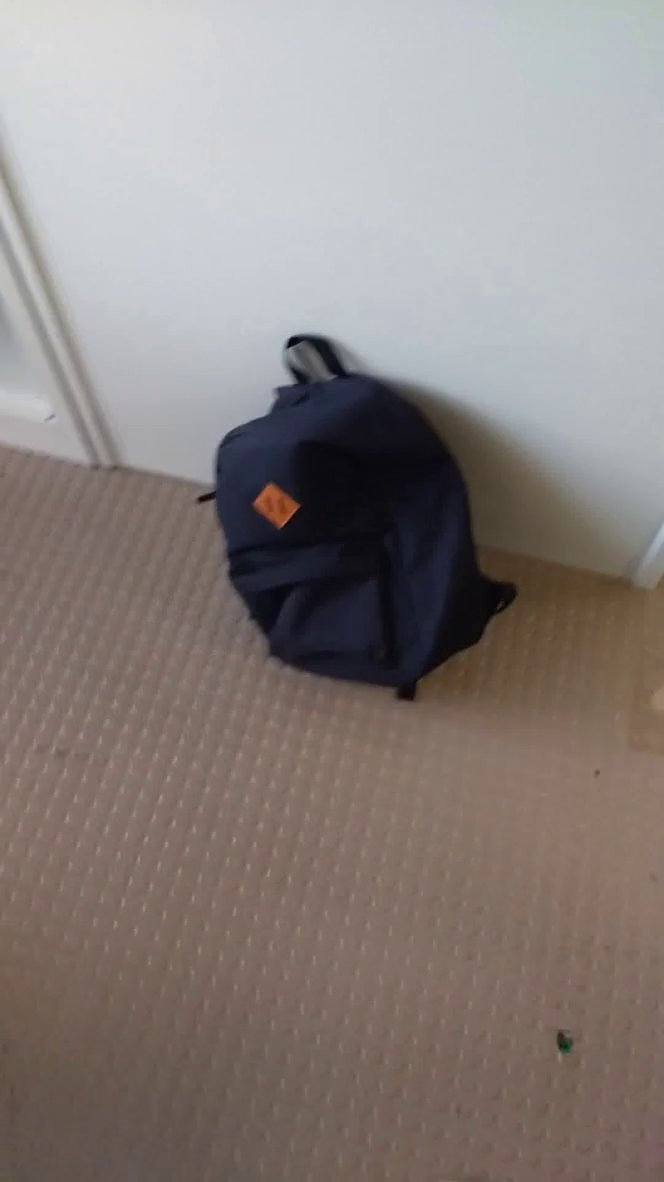bag: (171, 329, 531, 716)
